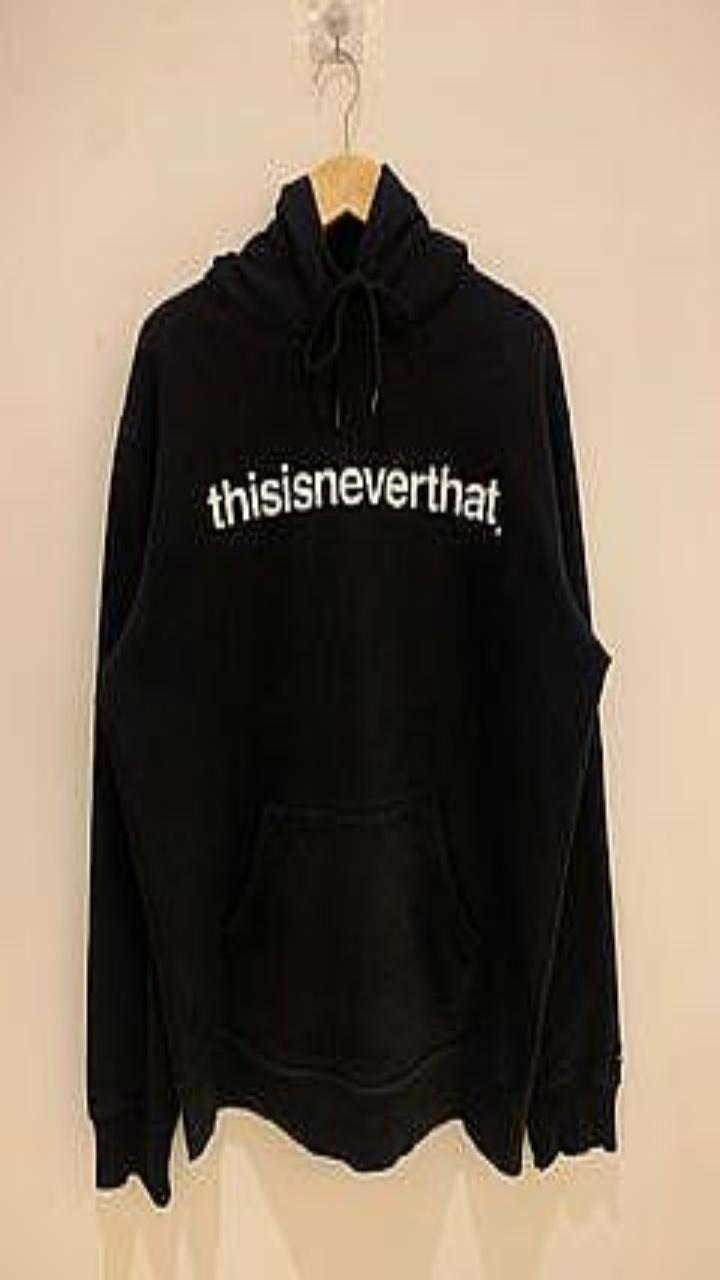Hoodie: (87, 163, 621, 1204)
